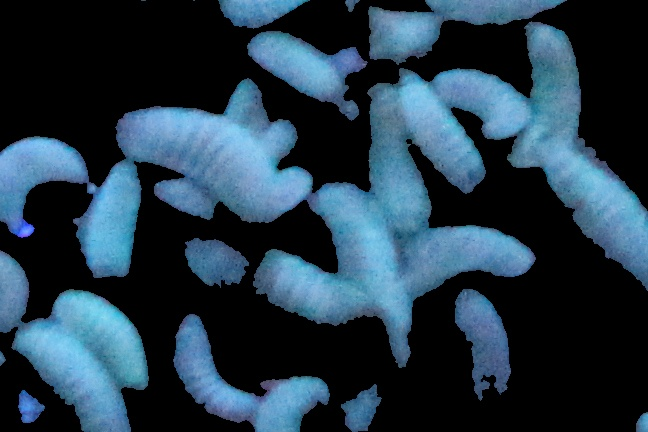larvae: (331, 184, 406, 401), (193, 241, 361, 329), (547, 147, 648, 279), (109, 98, 267, 182), (15, 319, 127, 432), (408, 78, 491, 194), (52, 290, 152, 383), (516, 26, 579, 168), (1, 131, 75, 245), (171, 310, 244, 418), (400, 227, 530, 286), (79, 163, 136, 276), (453, 298, 510, 408), (351, 1, 438, 72), (381, 88, 422, 227), (248, 35, 344, 94), (248, 371, 331, 432), (163, 184, 304, 216), (459, 78, 530, 135), (267, 98, 363, 139), (207, 1, 340, 29), (205, 76, 268, 135), (1, 252, 27, 338)
